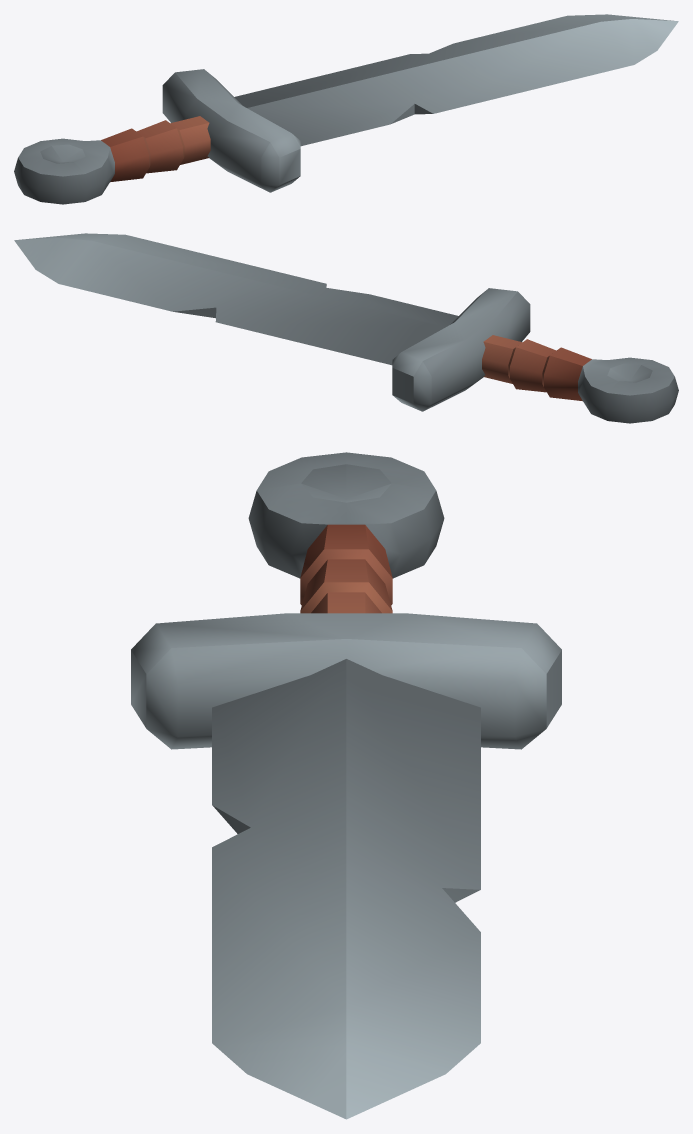
The model's file is sword_01.glb.
3 renders of one model, top to bottom at view 1: azimuth 30°, elevation 25°; view 2: azimuth 150°, elevation 25°; view 3: azimuth 270°, elevation 25°, orthographic. The views are drawn at different scales.
Visible parts, largest first — view 1: sword_1handed; view 2: sword_1handed; view 3: sword_1handed.
Boxes of the visible parts, left/top/right/bottom form: sword_1handed: left=14, top=14, right=678, bottom=204; sword_1handed: left=14, top=233, right=678, bottom=423; sword_1handed: left=131, top=452, right=561, bottom=1119.
Bounding box in the file's own units: 1.78 × 0.1306 × 0.5034.
Materials: 1 (1 with a texture image).
